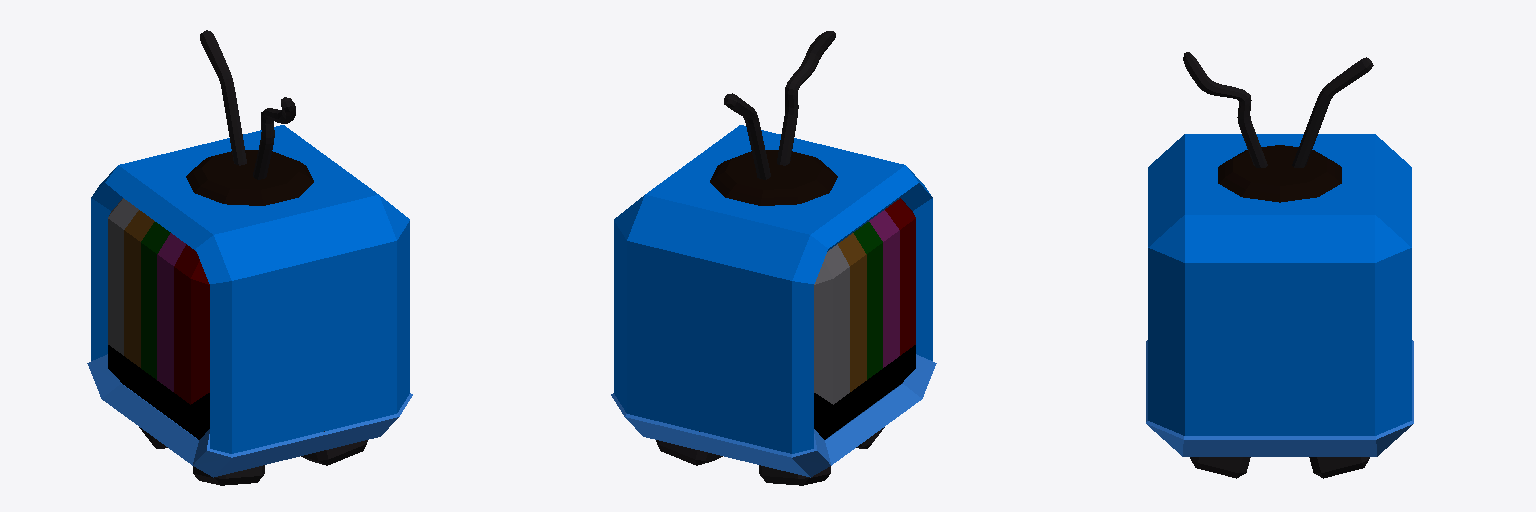
3 renders of one model, left to right at view 1: azimuth 30°, elevation 25°; view 2: azimuth 150°, elevation 25°; view 3: azimuth 270°, elevation 25°, orthographic.
Parts seen in each view (by area): view 1: Meshescube00111, Meshescube0019, Meshescube0015, Meshescube0012, Meshescube0011, Meshescube0014, Meshescube0013, Meshescube0016, Meshescube0018, Meshescube0017, Meshescube00110; view 2: Meshescube00111, Meshescube0019, Meshescube0018, Meshescube0012, Meshescube0011, Meshescube0014, Meshescube0016, Meshescube0013, Meshescube0015, Meshescube0017, Meshescube00110; view 3: Meshescube00111, Meshescube0019, Meshescube0012, Meshescube0011, Meshescube00110.
Part boxes in pixels (x1,y1,x2,y2): Meshescube00111: (91,125,409,453); Meshescube0019: (87,354,412,477); Meshescube0015: (174,244,209,404); Meshescube0012: (186,150,313,205); Meshescube0011: (200,30,295,179); Meshescube0014: (108,345,209,439); Meshescube0013: (157,233,185,391); Meshescube0016: (124,210,154,367); Meshescube0018: (108,198,138,355); Meshescube0017: (141,222,170,379); Meshescube00110: (139,383,367,485); Meshescube00111: (614,125,932,453); Meshescube0019: (611,354,936,477); Meshescube0018: (814,244,849,404); Meshescube0012: (710,150,837,205); Meshescube0011: (724,31,835,179); Meshescube0014: (814,345,915,439); Meshescube0016: (838,233,866,391); Meshescube0013: (869,210,899,367); Meshescube0015: (885,198,915,355); Meshescube0017: (853,222,882,379); Meshescube00110: (656,383,884,485); Meshescube00111: (1148,134,1411,435); Meshescube0019: (1146,340,1413,456); Meshescube0012: (1218,145,1341,202); Meshescube0011: (1183,52,1373,167); Meshescube00110: (1190,457,1369,478).
Size of the model in its own units: 1.75 by 3 by 1.86.